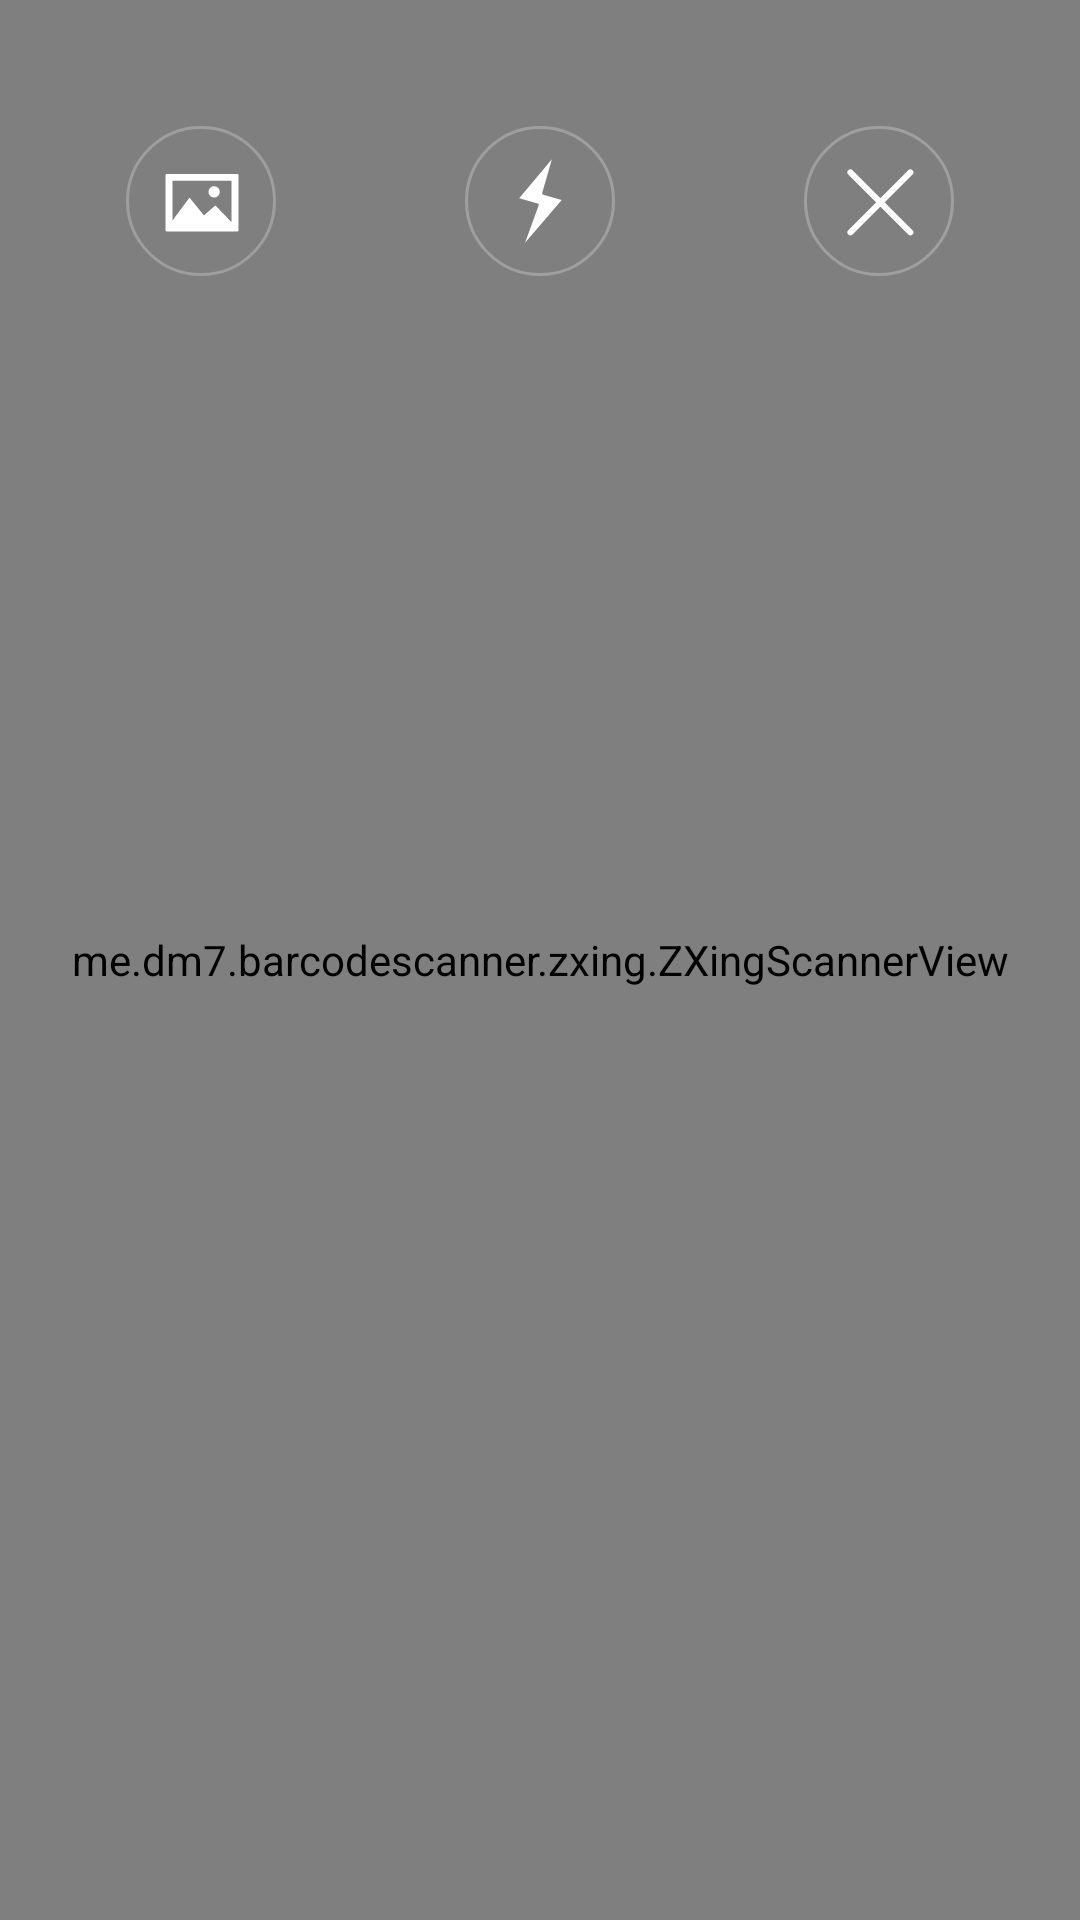

Icons on this 1080*1920 Android screen, each with its box as (x1, y1, x2, y2):
close scan: (804, 126, 954, 276)
flash: (465, 126, 615, 276)
